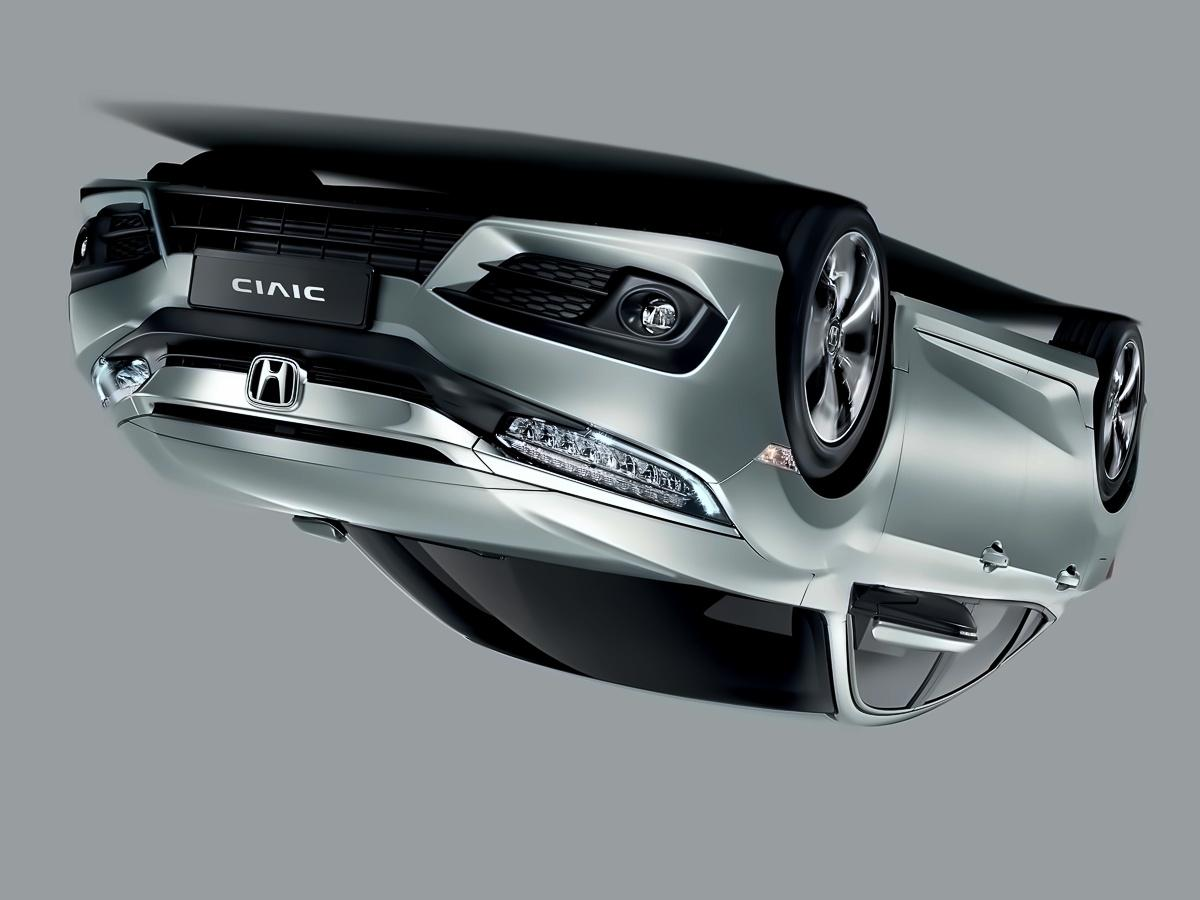Car hood: (116, 423, 812, 610)
Driver-s door - -F-R-: (824, 260, 1037, 726)
Fender - -F-R-: (691, 264, 939, 602)
Front bumper: (52, 173, 790, 486)
Headlight - -L-: (91, 343, 149, 413)
Headlight - -R-: (496, 403, 734, 538)
Passenger-s door - -R-R-: (915, 290, 1094, 751)
Side bumper - -R-: (876, 280, 1119, 431), (879, 267, 1109, 415)
Side mirror - -R-: (850, 583, 980, 658)
